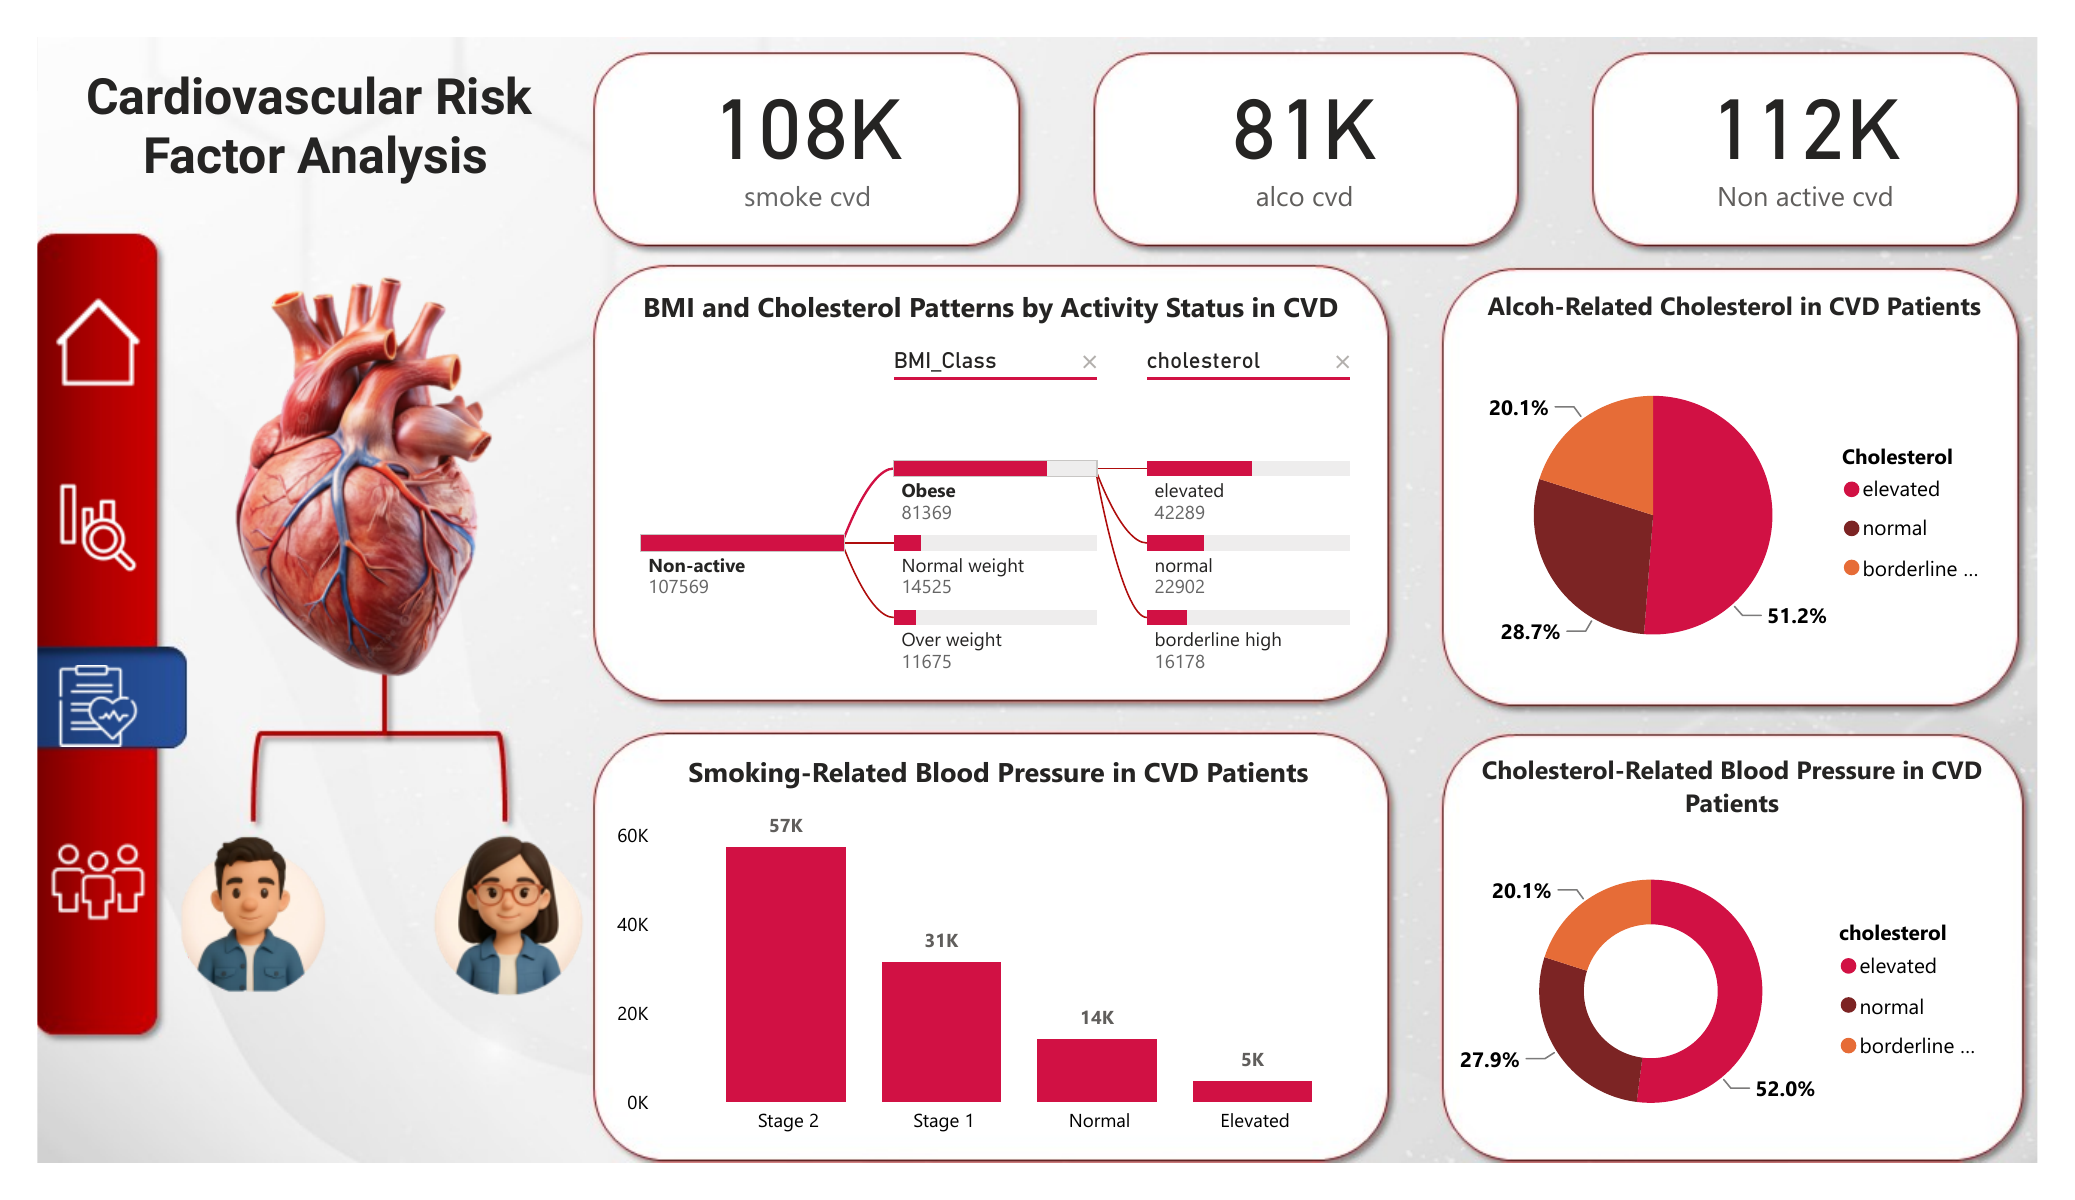

Layout of this report page (visuals, bound fields, positions):
{"tool":"powerbi","page":{"name":"Analysis","canvas":[1280,720],"ordinal":2},"visuals":[{"type":"card","fields":{"Values":["Heart.alco cvd"]},"box":[675.1,6.9,271.7,112.5],"z":0},{"type":"card","fields":{"Values":["Heart.smoke cvd"]},"box":[355.4,6.9,275.8,112.5],"z":1000},{"type":"card","fields":{"Values":["Heart.Non active cvd"]},"box":[996.2,6.9,270.3,112.5],"z":2000},{"type":"decompositionTreeVisual","title":"BMI and Cholesterol Patterns by Activity Status in CVD ","fields":{"Analyze":["Measure.CVD Count"],"ExplainBy":["Heart.BMI_Class","Heart.cholesterol"]},"box":[355.7,160,508.6,267.1],"z":3000},{"type":"clusteredColumnChart","title":"Smoking-Related Blood Pressure in CVD Patients","fields":{"Category":["Heart.BP_Class"],"Y":["CountNonNull(Heart.smoke)"]},"box":[366.4,458.3,498.1,253.9],"z":4000},{"type":"pieChart","title":"Alcoh-Related Cholesterol in CVD Patients","fields":{"Category":["Heart.cholesterol"],"Y":["CountNonNull(Heart.alco)"]},"box":[908.4,160.5,355.4,267.6],"z":5000},{"type":"donutChart","title":"Cholesterol-Related Blood Pressure in CVD Patients","fields":{"Category":["Heart.cholesterol"],"Y":["CountNonNull(Heart.BP_Class)"]},"box":[907,457.9,355.4,262.1],"z":6000},{"type":"image","box":[5.5,278.5,67.5,70],"z":7000},{"type":"image","box":[3.2,397,72,62],"z":8000},{"type":"image","box":[2.2,160,74,70],"z":9000},{"type":"image","box":[2.3,507.5,73.8,65],"z":10000},{"type":"image","box":[189.3,483.3,223.8,164.3],"z":11000},{"type":"textbox","box":[0,14.3,356,88.1],"z":12000},{"type":"image","box":[76.2,486.9,125,147.6],"z":13000},{"type":"image","box":[65.5,136.9,286.9,291.7],"z":14000}]}

Visuals, with their boxes on the page's 1280x720 design canvas (x1, y1, x2, y2). These are canvas units, not pixel positions in the 2075x1200 screenshot, which may show the page scaled, cropped or inside an application window:
card - Heart.alco cvd: bbox=[675, 7, 947, 119]
card - Heart.smoke cvd: bbox=[355, 7, 631, 119]
card - Heart.Non active cvd: bbox=[996, 7, 1266, 119]
"BMI and Cholesterol Patterns by Activity Status in CVD " decompositionTreeVisual: bbox=[356, 160, 864, 427]
"Smoking-Related Blood Pressure in CVD Patients" clusteredColumnChart: bbox=[366, 458, 864, 712]
"Alcoh-Related Cholesterol in CVD Patients" pieChart: bbox=[908, 160, 1264, 428]
"Cholesterol-Related Blood Pressure in CVD Patients" donutChart: bbox=[907, 458, 1262, 720]
image: bbox=[6, 278, 73, 348]
image: bbox=[3, 397, 75, 459]
image: bbox=[2, 160, 76, 230]
image: bbox=[2, 508, 76, 572]
image: bbox=[189, 483, 413, 648]
textbox: bbox=[0, 14, 356, 102]
image: bbox=[76, 487, 201, 634]
image: bbox=[66, 137, 352, 429]
